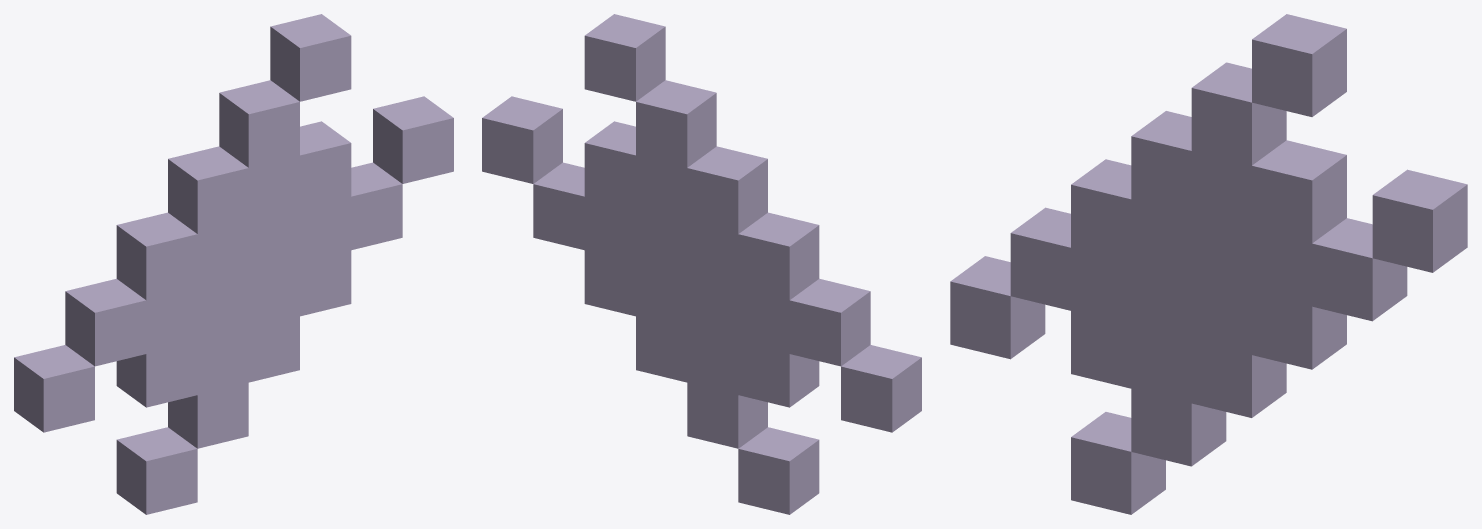
File: Scroll-Grey.vox.obj
3 views of the same model, side by side, from view 1: azimuth 30°, elevation 25°; view 2: azimuth 150°, elevation 25°; view 3: azimuth 330°, elevation 25° (orthographic). The views are drawn at different scales.
Size of the model in its own units: 0.8 by 0.8 by 0.1.
Materials: 1 (1 with a texture image).
